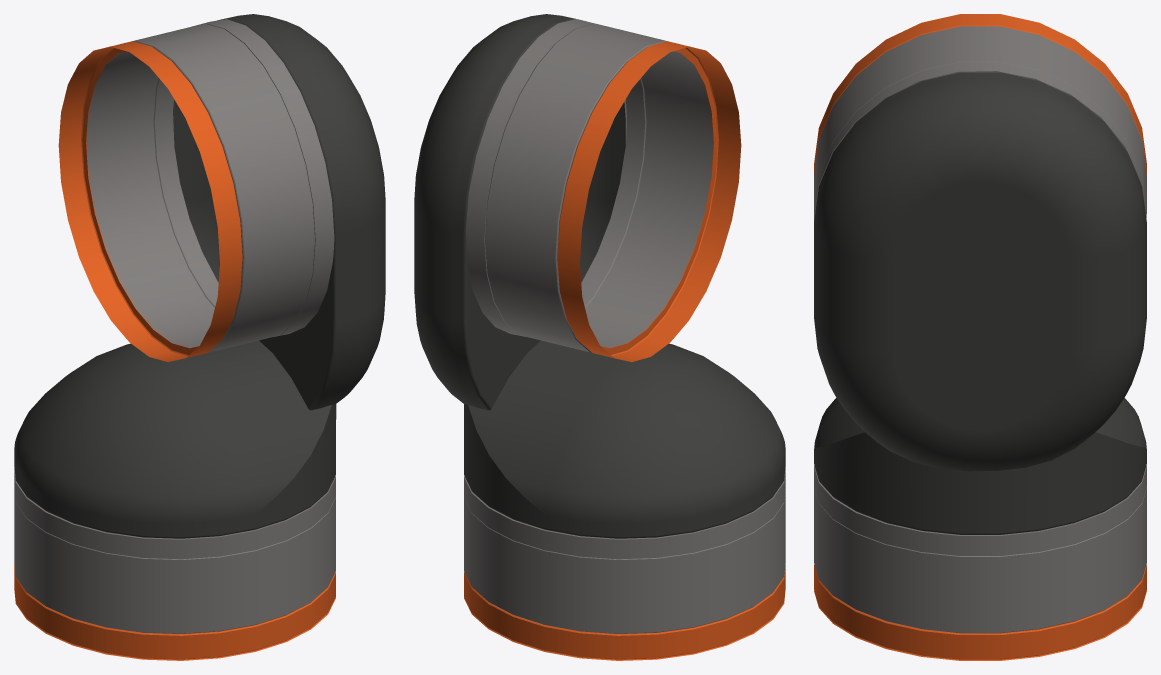
File: igus_REBEL_j0.gltf
3 views of the same model, side by side, from view 1: azimuth 30°, elevation 25°; view 2: azimuth 150°, elevation 25°; view 3: azimuth 270°, elevation 25° (orthographic). The views are drawn at different scales.
Parts seen in each view (by area): view 1: ReBel.011; view 2: ReBel.011; view 3: ReBel.011.
Boxes of the visible parts, x1,y1,x2,y2 form: ReBel.011: [14, 14, 385, 660]; ReBel.011: [414, 14, 785, 660]; ReBel.011: [814, 14, 1146, 660].
Bounding box in the file's own units: 0.1116 × 0.1947 × 0.105.
